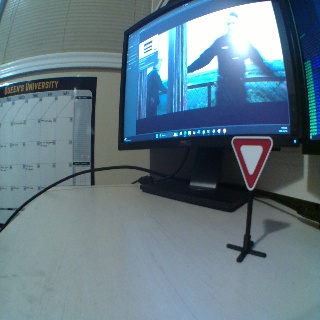sign_yield: (230, 135, 272, 189)
